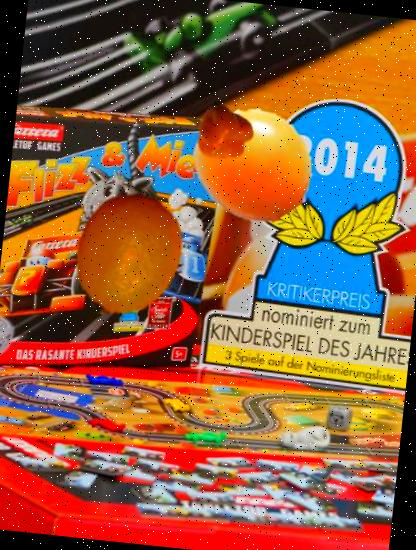Cherry: (192, 104, 317, 229)
Lemon: (57, 187, 197, 327)
Pepper: (189, 98, 257, 166)
